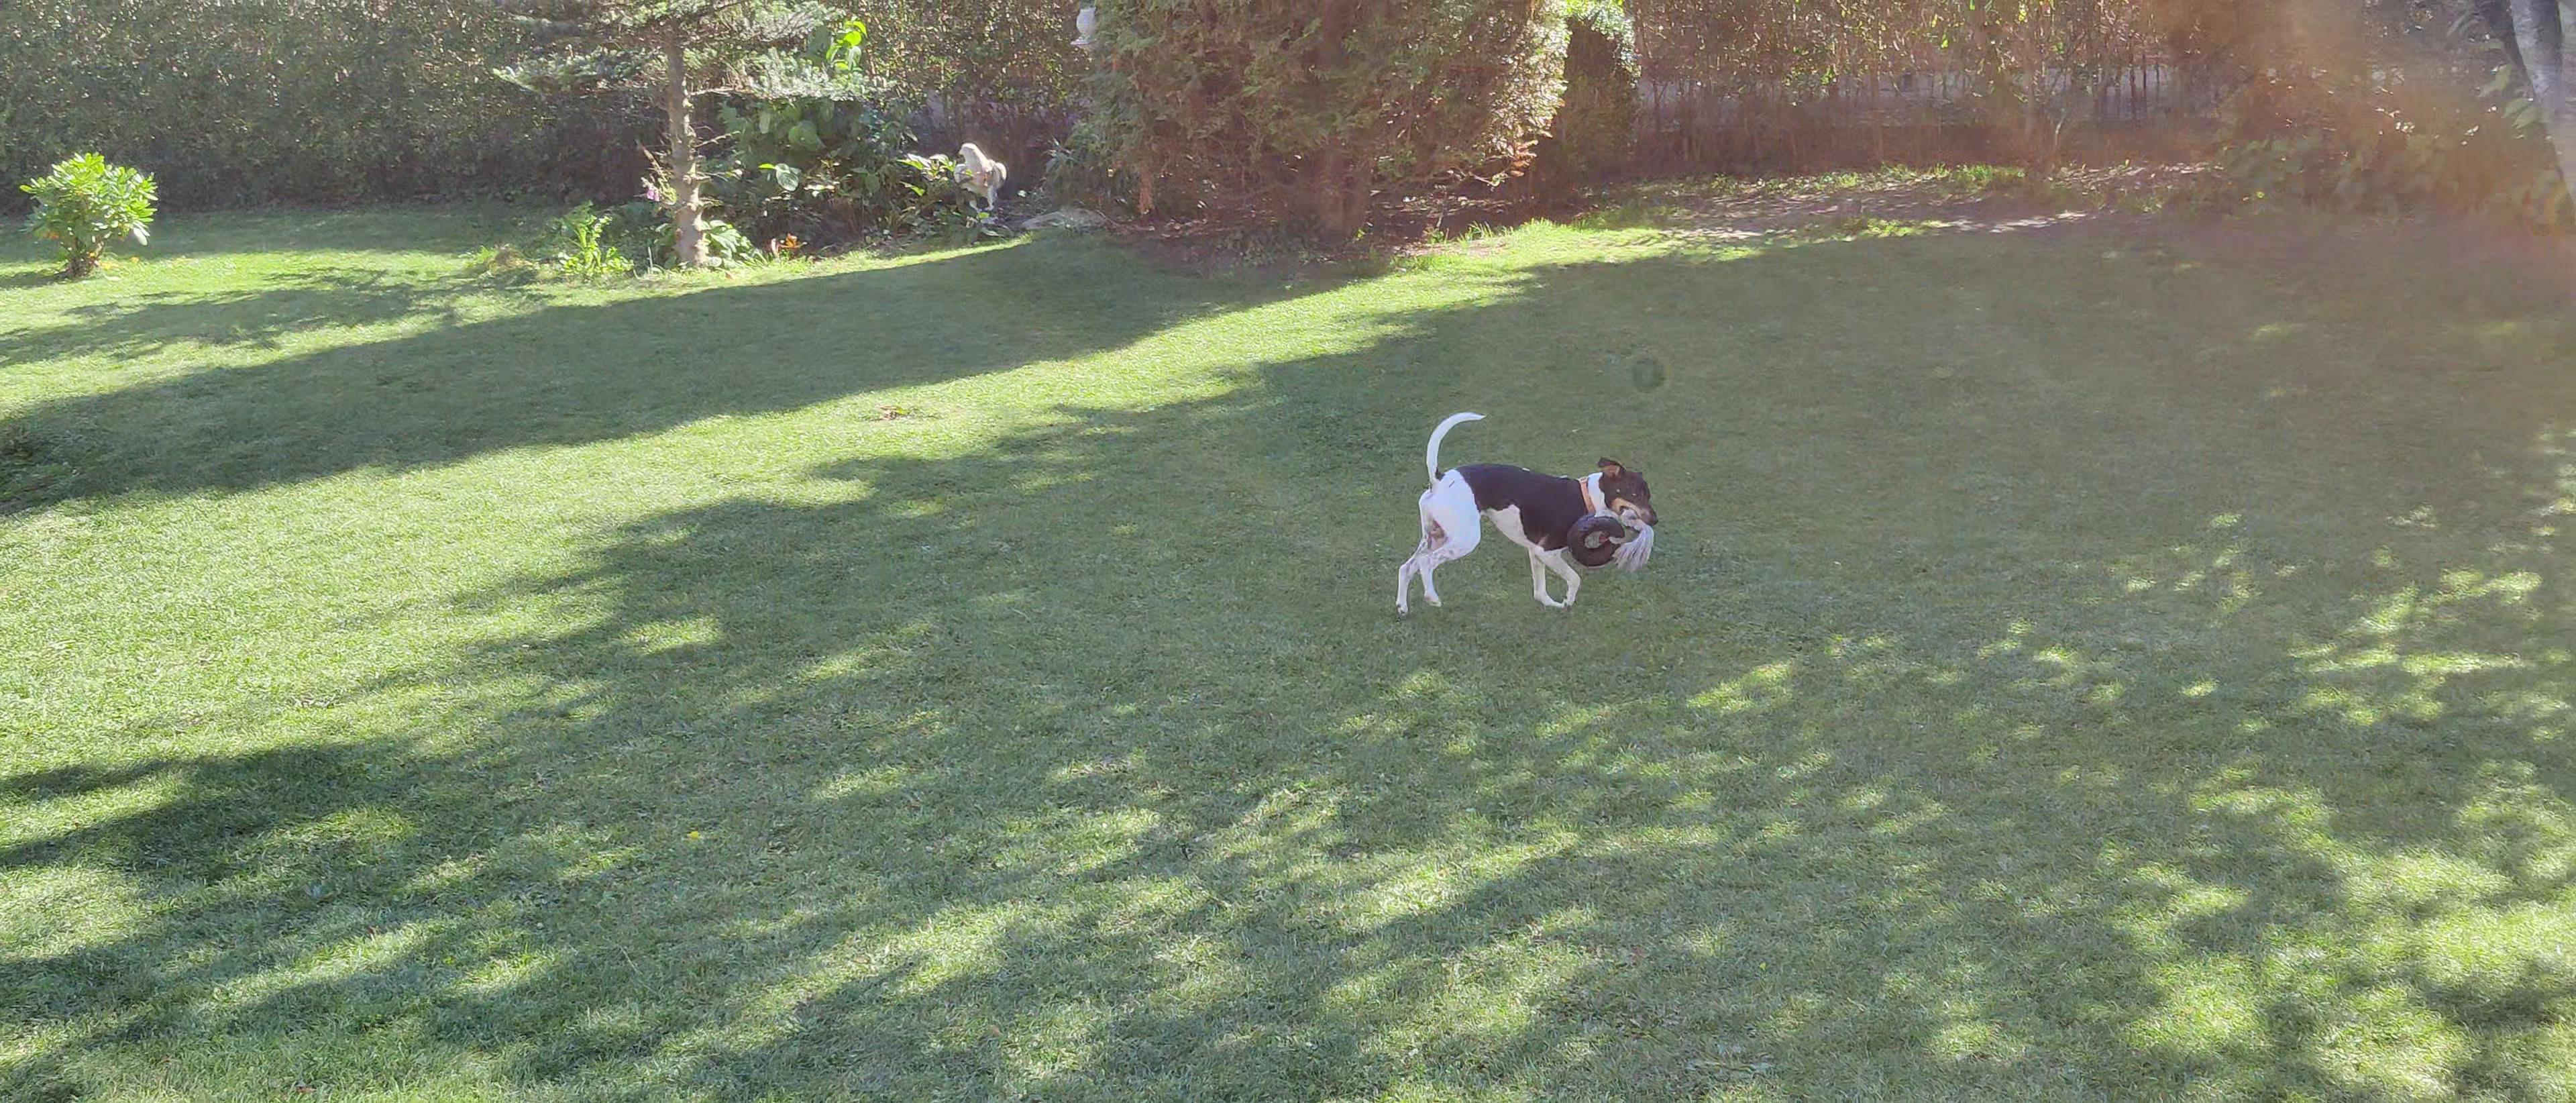Dog: (1380, 401, 1671, 631)
